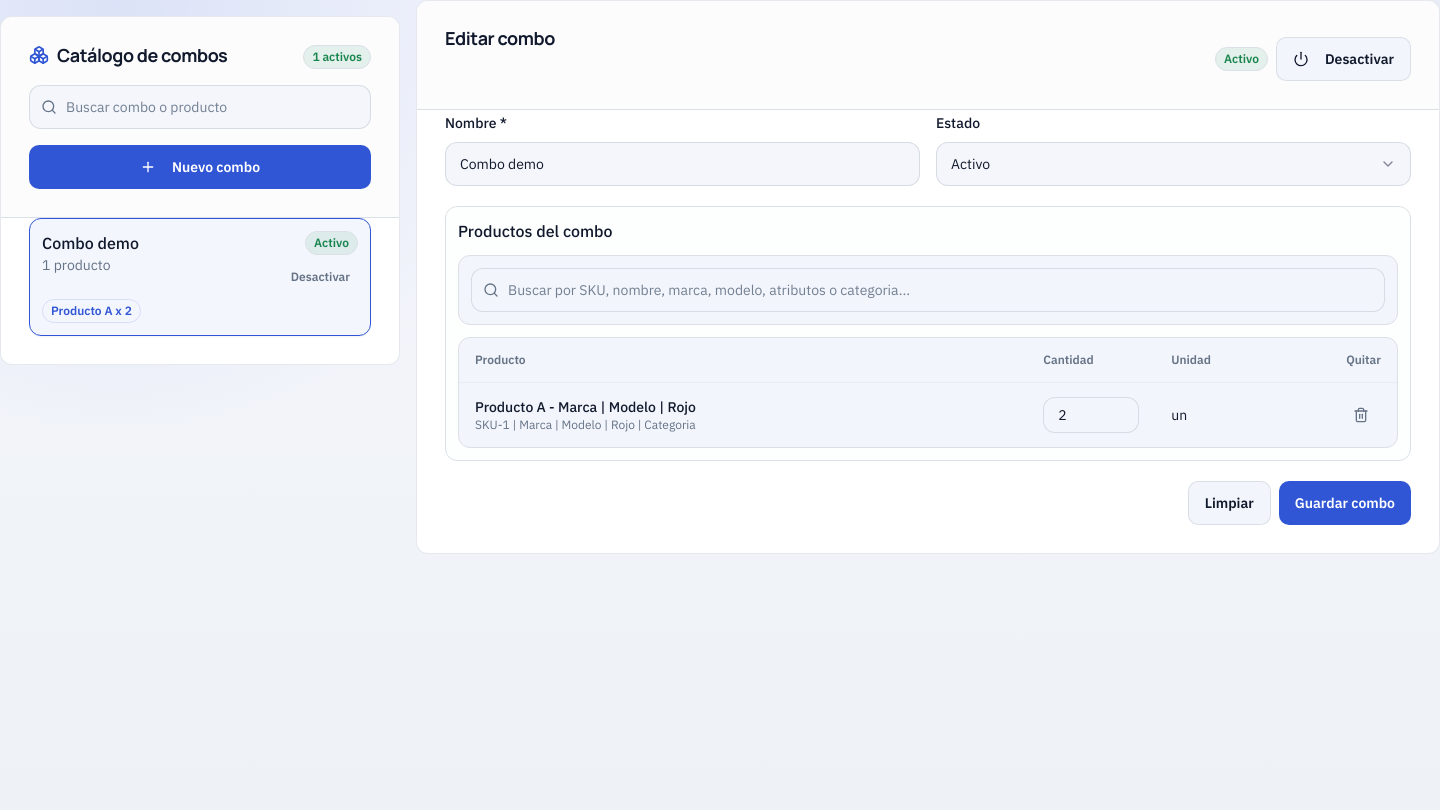
it: CombosPage › updates the selected combo summary immediately while editing
Expected: the text "Producto A x 2" is shown, [42,299,141,323]
Replace the text in the number field showing "2" with "5": (1091, 414) [1043,396,1139,432]
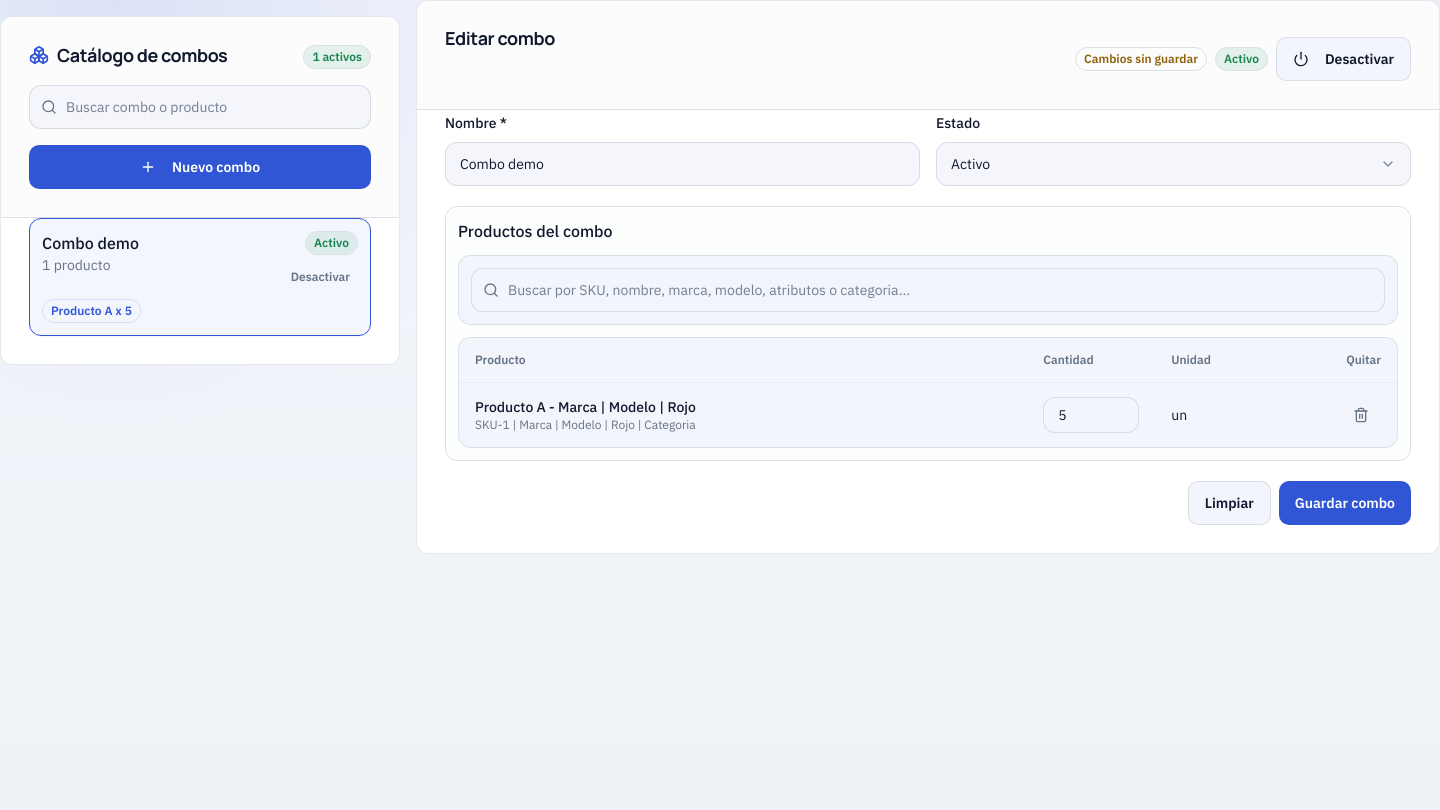
Expected: the text "Producto A x 5" is shown, [42,299,141,323]
